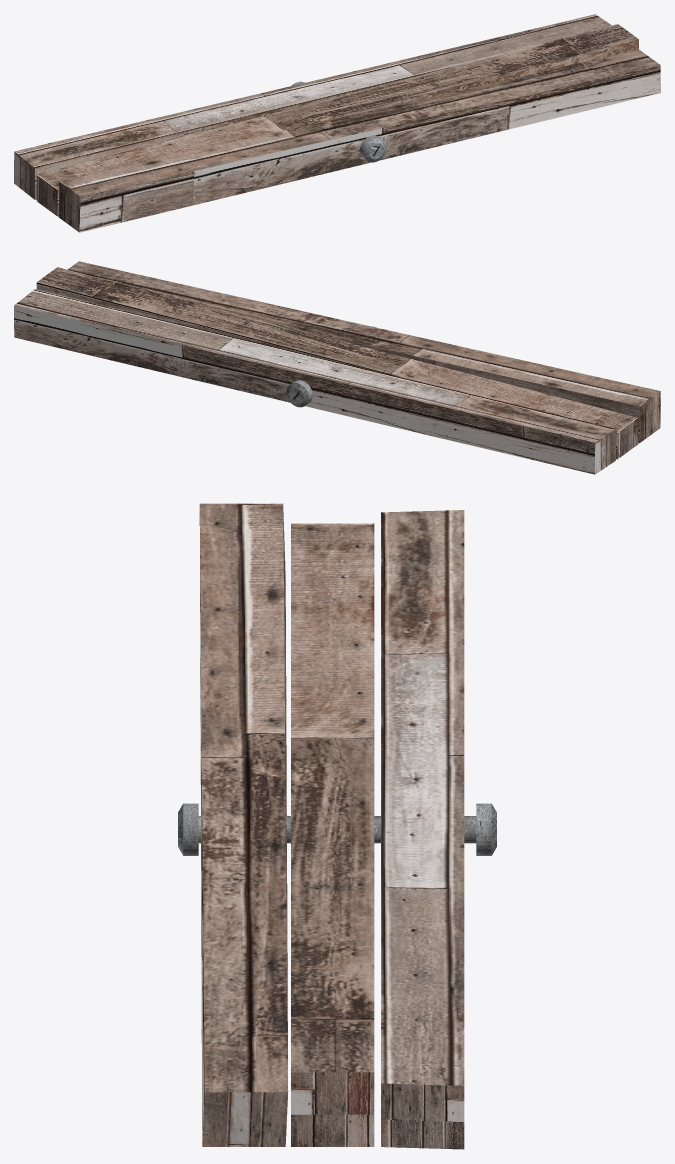
File: Plat bascule.fbx
3 renders of one model, top to bottom at view 1: azimuth 30°, elevation 25°; view 2: azimuth 150°, elevation 25°; view 3: azimuth 270°, elevation 25°, orthographic. The views are drawn at different scales.
Parts seen in each view (by area): view 1: Cube.002, Cylinder.005; view 2: Cube.002, Cylinder.005; view 3: Cube.002, Cylinder.005.
Boxes of the visible parts, left/top/right/bottom form: Cube.002: left=14, top=14, right=660, bottom=232; Cylinder.005: left=291, top=81, right=386, bottom=162; Cube.002: left=14, top=261, right=660, bottom=474; Cylinder.005: left=286, top=326, right=376, bottom=407; Cube.002: left=199, top=503, right=464, bottom=1149; Cylinder.005: left=178, top=803, right=496, bottom=855.
Bounding box in the file's own units: 737 × 48 × 175.
